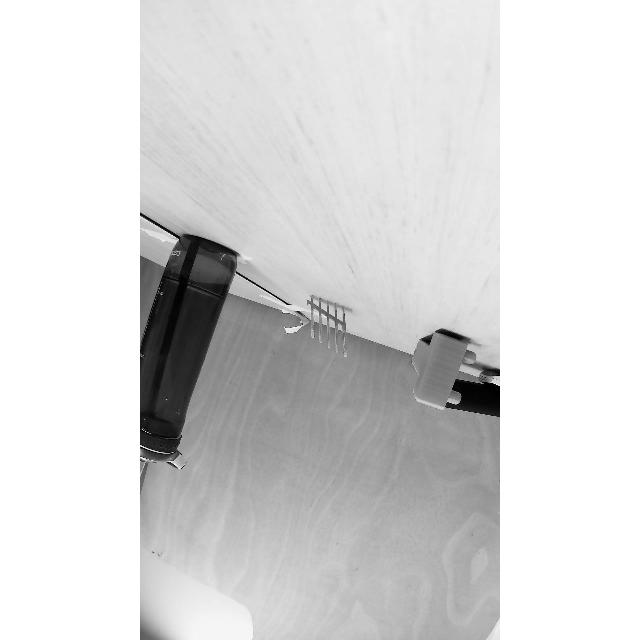targets: (140, 230, 244, 480), (411, 327, 474, 411), (434, 376, 500, 418), (310, 294, 352, 356)
